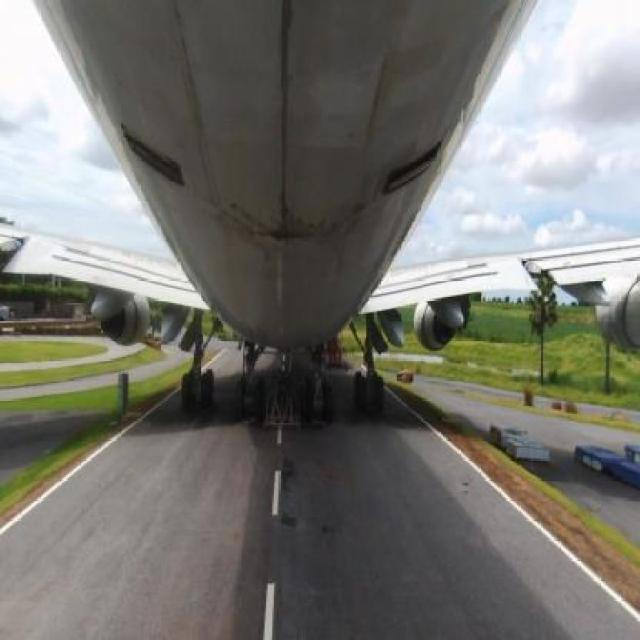Scartch: (161, 11, 241, 248), (259, 3, 310, 268), (357, 26, 385, 231)
